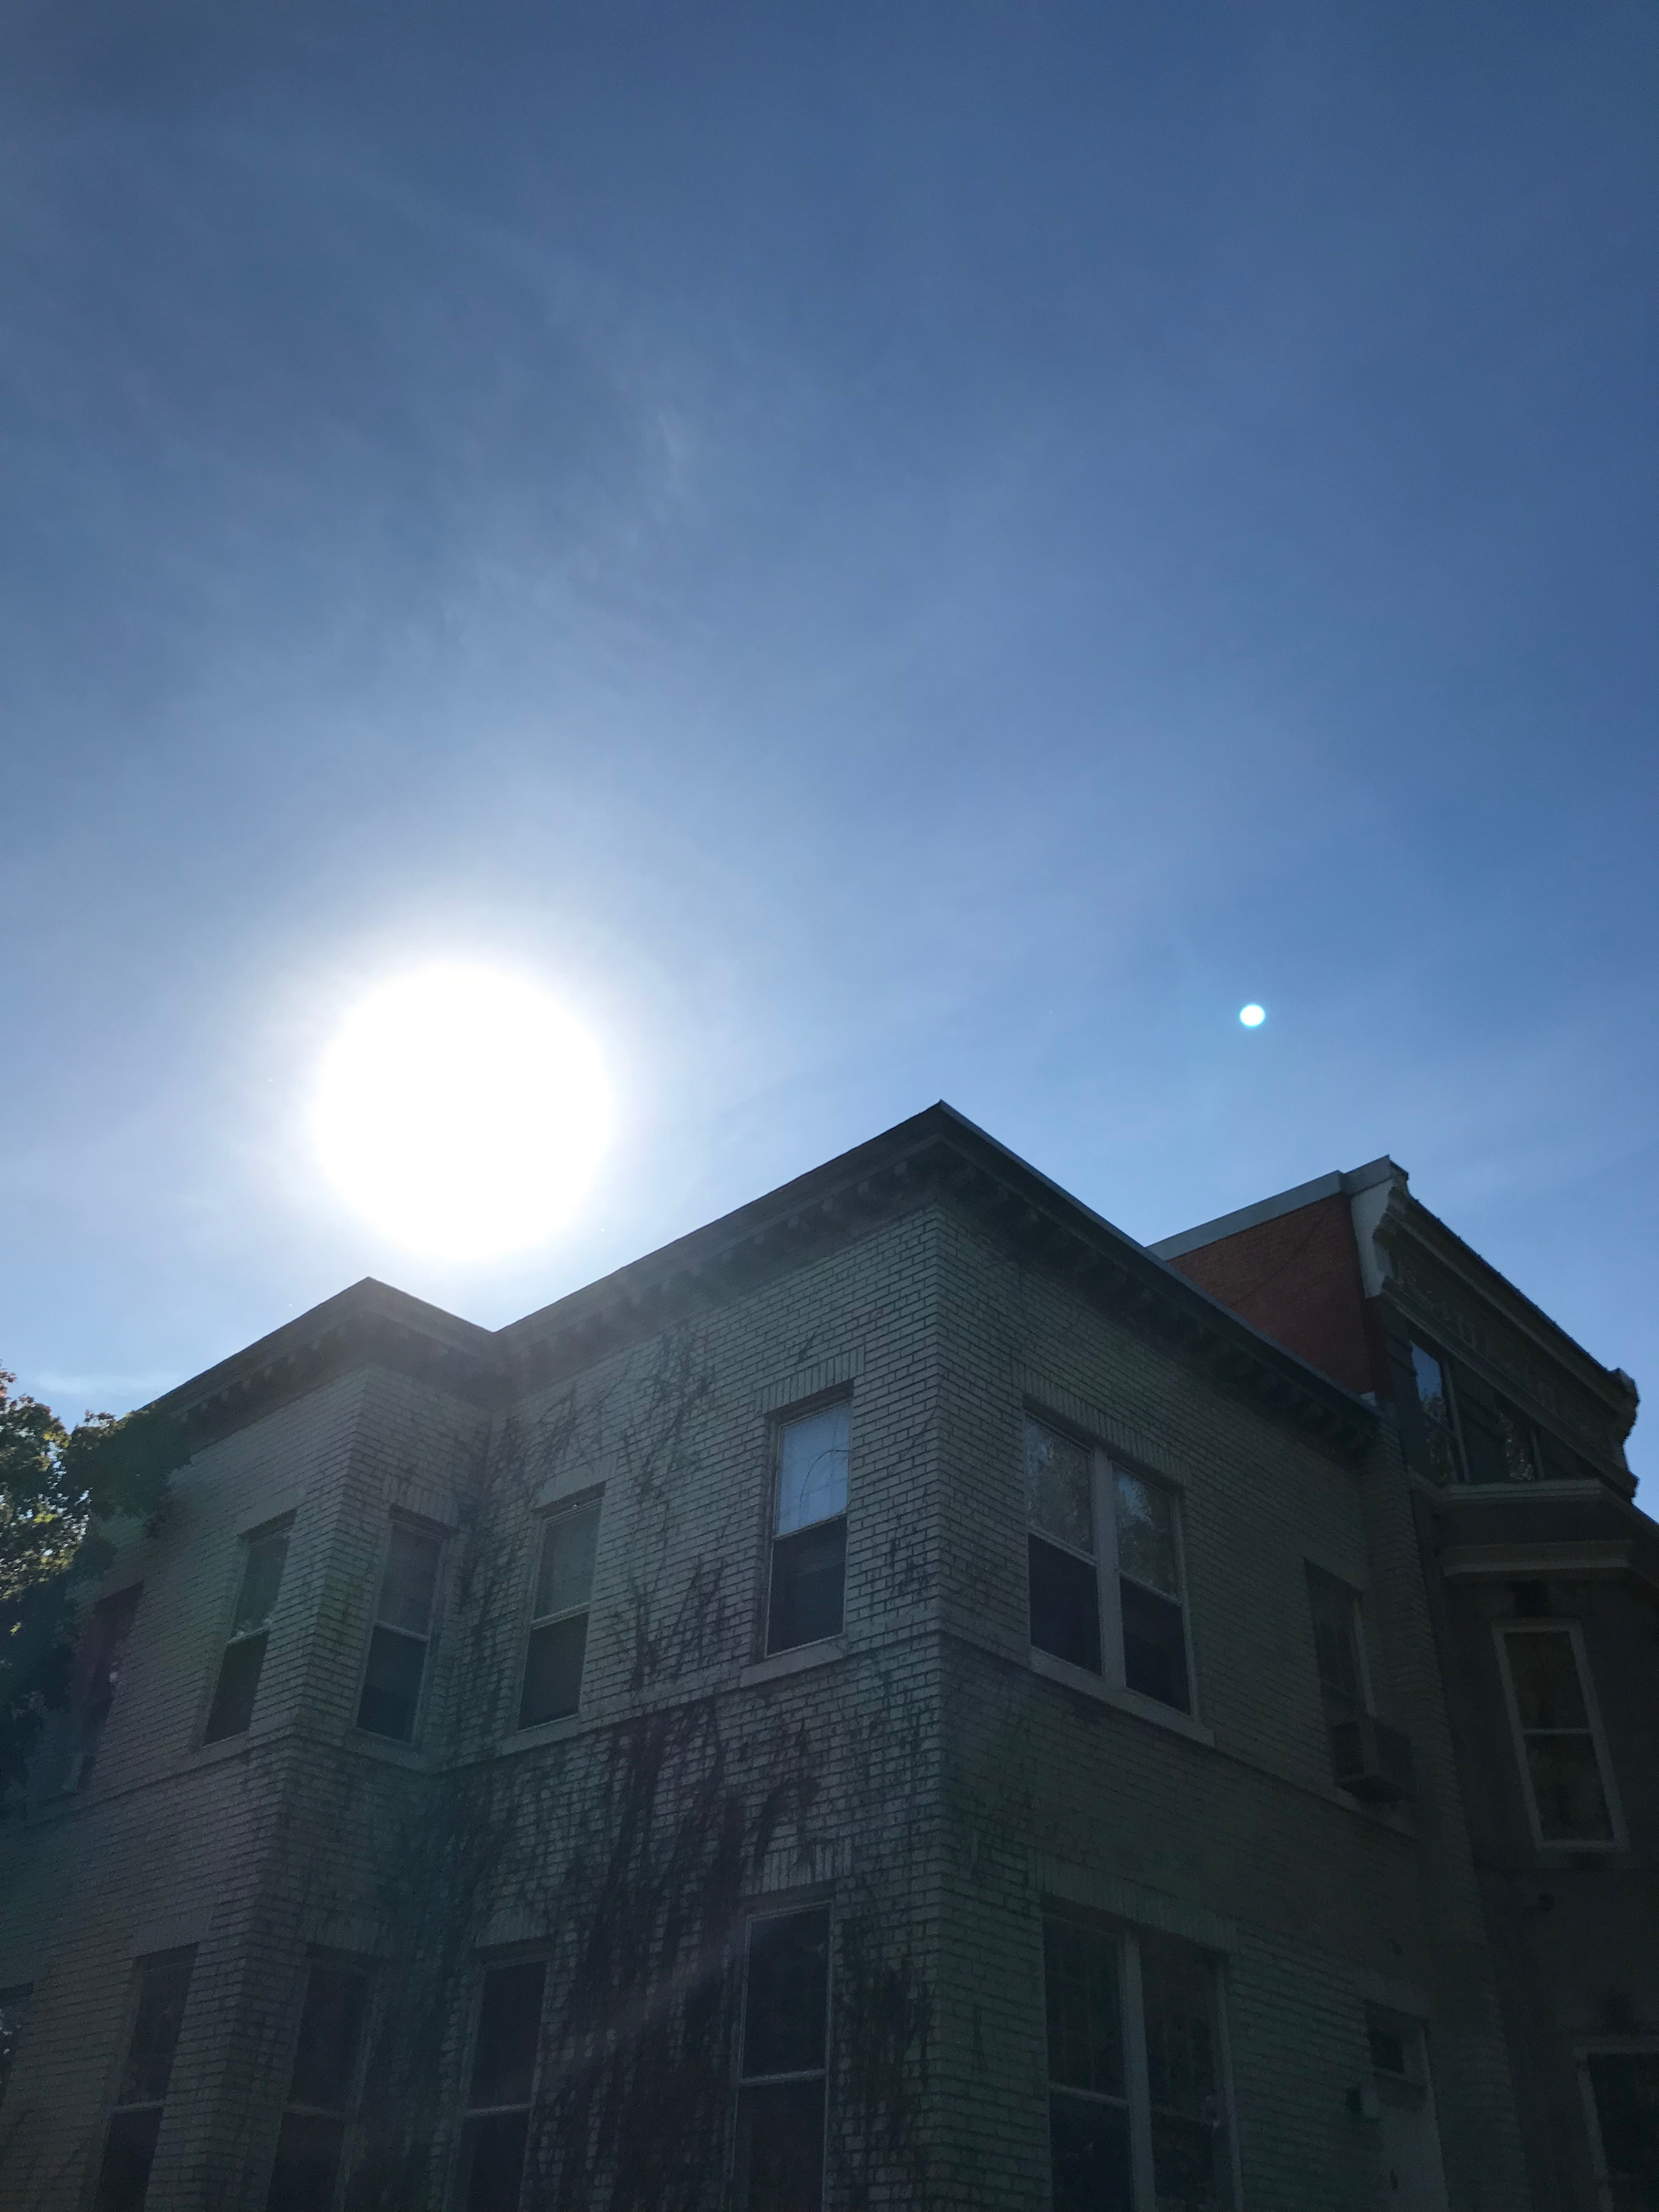flare: (1237, 1001, 1269, 1029)
